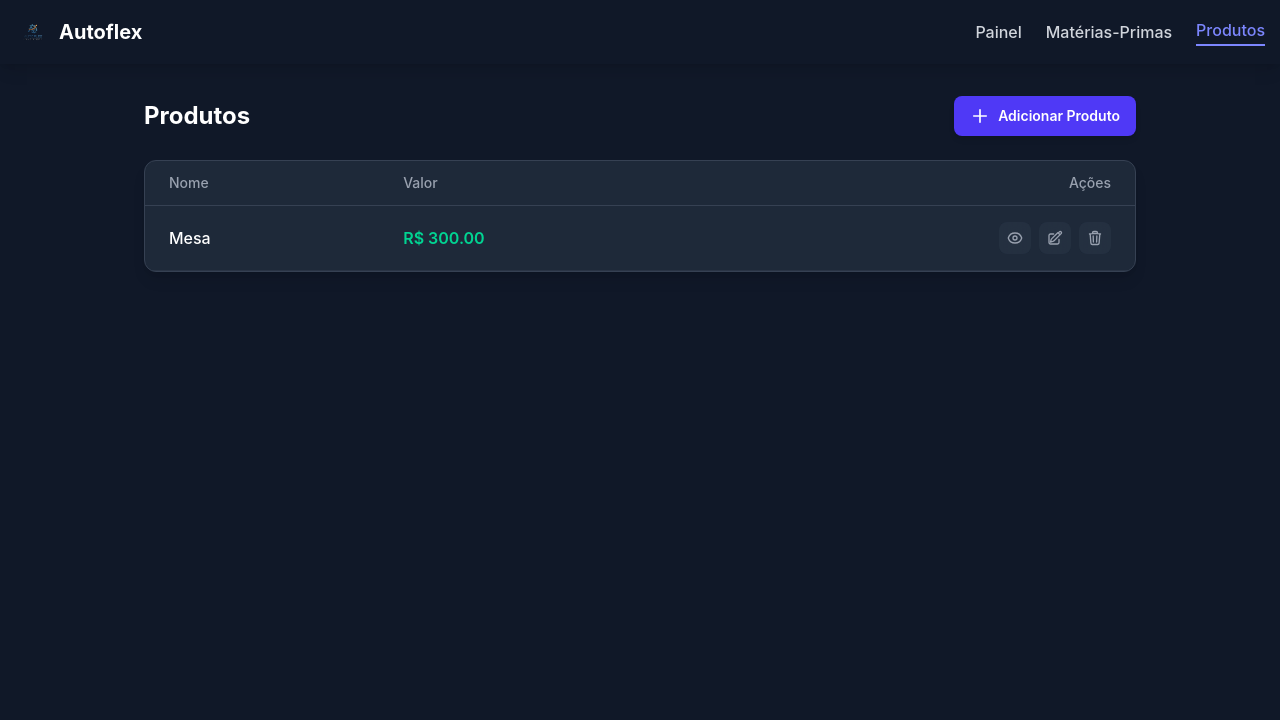
Test case: Inventory Management App E2E › should open delete confirmation for a product
This screenshot has width=1280, height=720.
# Click the delete icon button (red trash)
Click the button titled "Excluir produto": x=1095, y=238 [1079,222,1111,254]
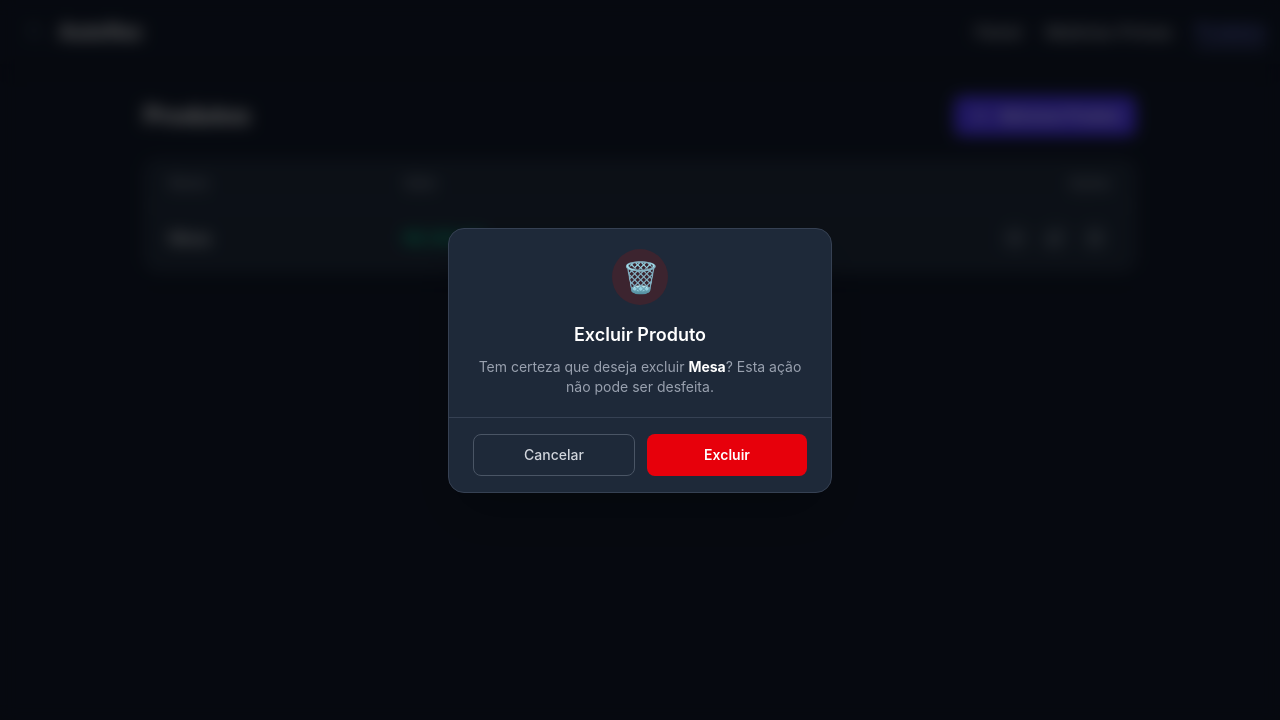
Check: the heading "Excluir Produto" is shown, box [574,324,706,344]
Click the button "Cancelar": x=554, y=455 [473,434,635,476]
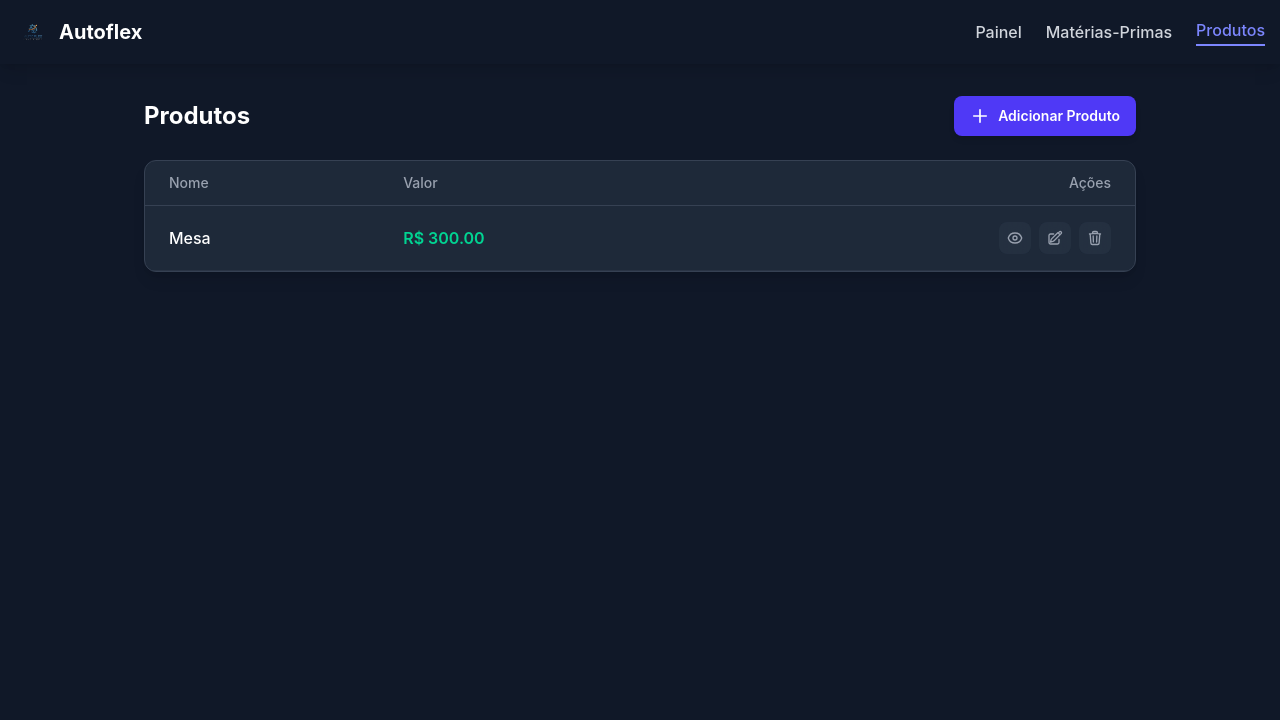
Check: the heading "Excluir Produto" is gone
